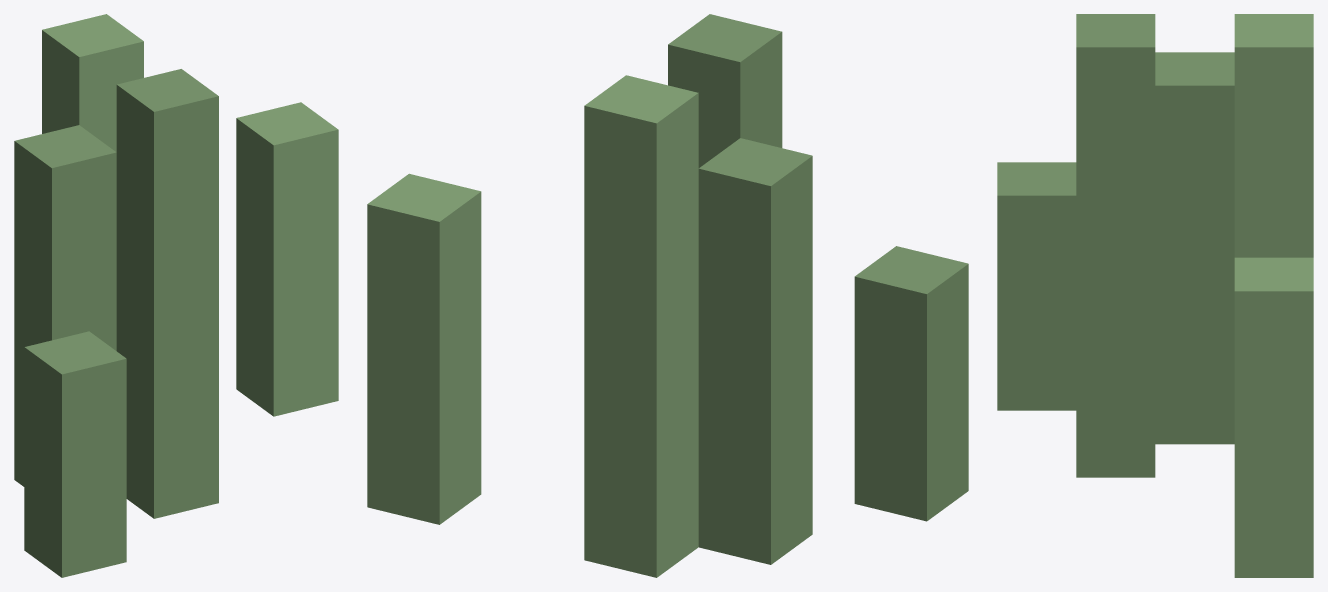
File: berro_01.glb
The picture shows the model from 3 angles, left to right: view 1: azimuth 30°, elevation 25°; view 2: azimuth 150°, elevation 25°; view 3: azimuth 270°, elevation 25°; orthographic projection. The views are drawn at different scales.
Parts seen in each view (by area): view 1: berro_01; view 2: berro_01; view 3: berro_01.
Part boxes in pixels (x1,y1,x2,y2): berro_01: (14, 14, 338, 577); berro_01: (367, 14, 968, 577); berro_01: (997, 14, 1313, 577).
Size of the model in its own units: 0.6 by 0.6 by 0.4.
